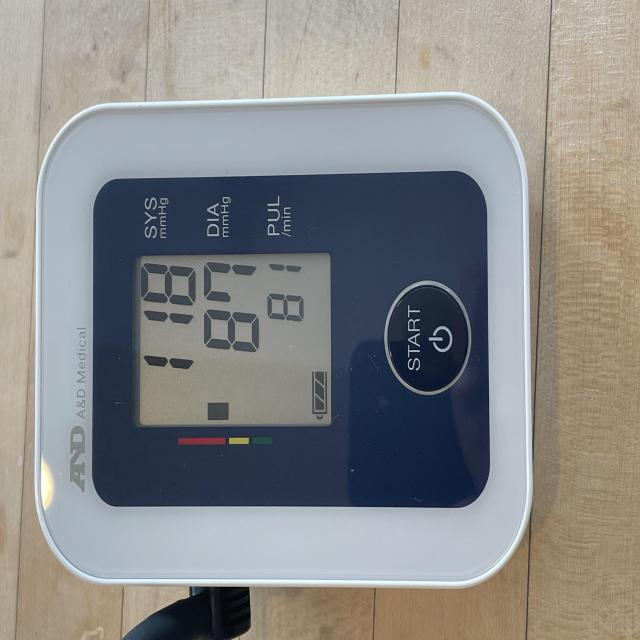bp: (28, 93, 543, 600)
